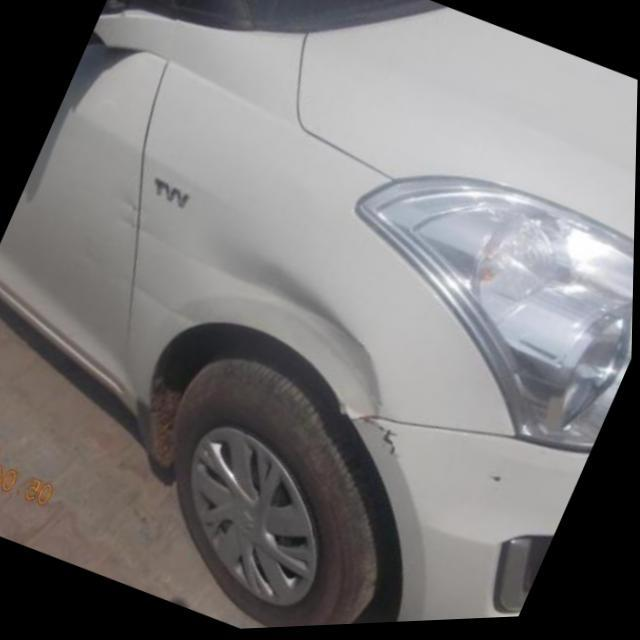crack: (118, 195, 181, 257), (360, 417, 403, 464), (485, 474, 510, 494)
dent: (173, 237, 388, 429)
scratch: (75, 236, 204, 329)
